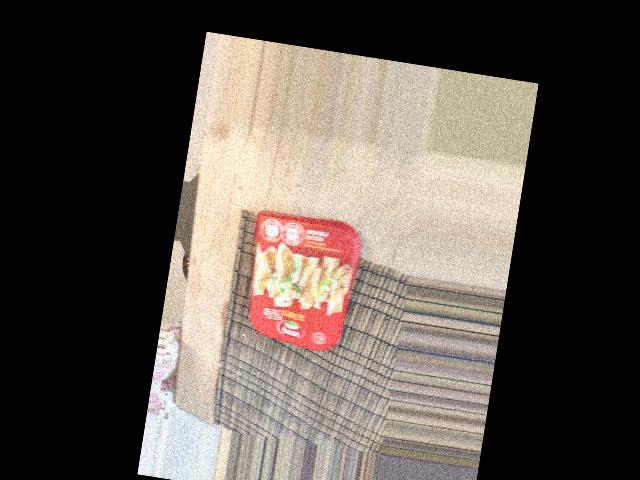cheese: (256, 281, 391, 391)
